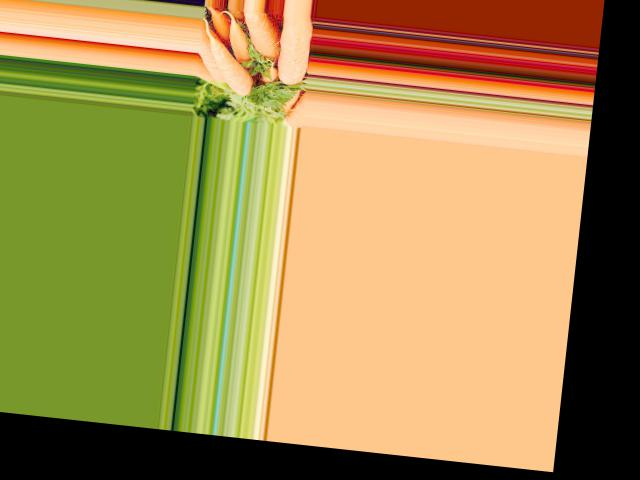carrot: (271, 14, 313, 89)
